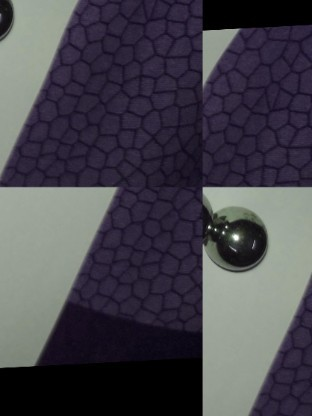ironball: (207, 197, 269, 278), (0, 0, 15, 41)
